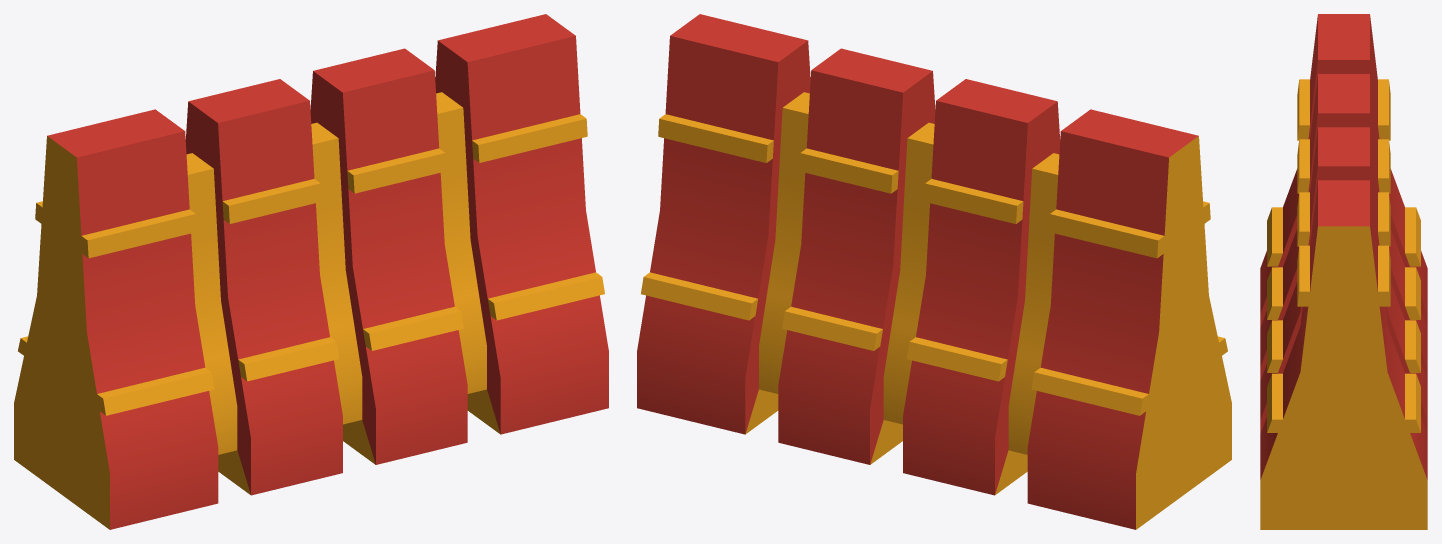
The model's file is Barricade_Plastic_06.fbx.
3 views of the same model, side by side, from view 1: azimuth 30°, elevation 25°; view 2: azimuth 150°, elevation 25°; view 3: azimuth 270°, elevation 25° (orthographic). The views are drawn at different scales.
Parts seen in each view (by area): view 1: Obstacle_Barricade_Plastic_06; view 2: Obstacle_Barricade_Plastic_06; view 3: Obstacle_Barricade_Plastic_06.
Boxes of the visible parts, bbox=[...] form: Obstacle_Barricade_Plastic_06: bbox=[14, 14, 608, 529]; Obstacle_Barricade_Plastic_06: bbox=[637, 14, 1231, 529]; Obstacle_Barricade_Plastic_06: bbox=[1260, 14, 1427, 529].
Size of the model in its own units: 105 by 69.7 by 34.79.
Materials: 1 (1 with a texture image).
